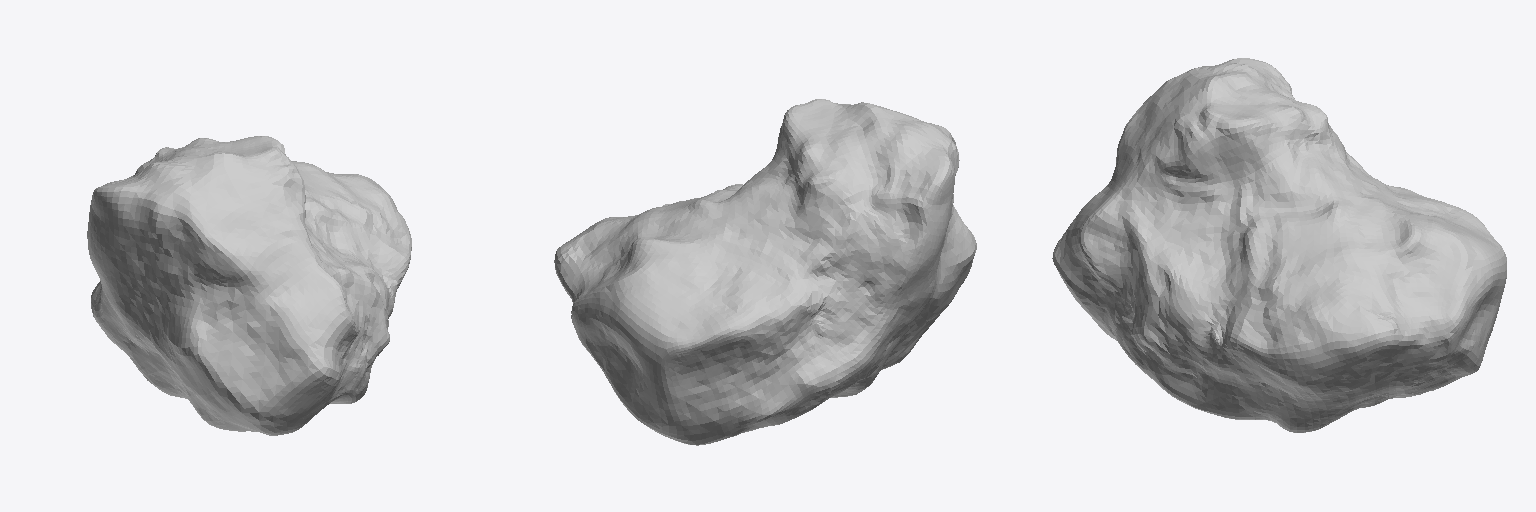
Rendered from d213a4251f06_a_large_ore_vein_mi.obj.
3 renders of one model, left to right at view 1: azimuth 30°, elevation 25°; view 2: azimuth 150°, elevation 25°; view 3: azimuth 270°, elevation 25°, orthographic.
Visible parts, largest first — view 1: mesh; view 2: mesh; view 3: mesh.
Part boxes in pixels (bbox=[...]): mesh: bbox=[87, 136, 411, 435]; mesh: bbox=[554, 99, 976, 445]; mesh: bbox=[1052, 58, 1506, 432].
Bounding box in the file's own units: 0.8523 × 0.6977 × 0.9996.